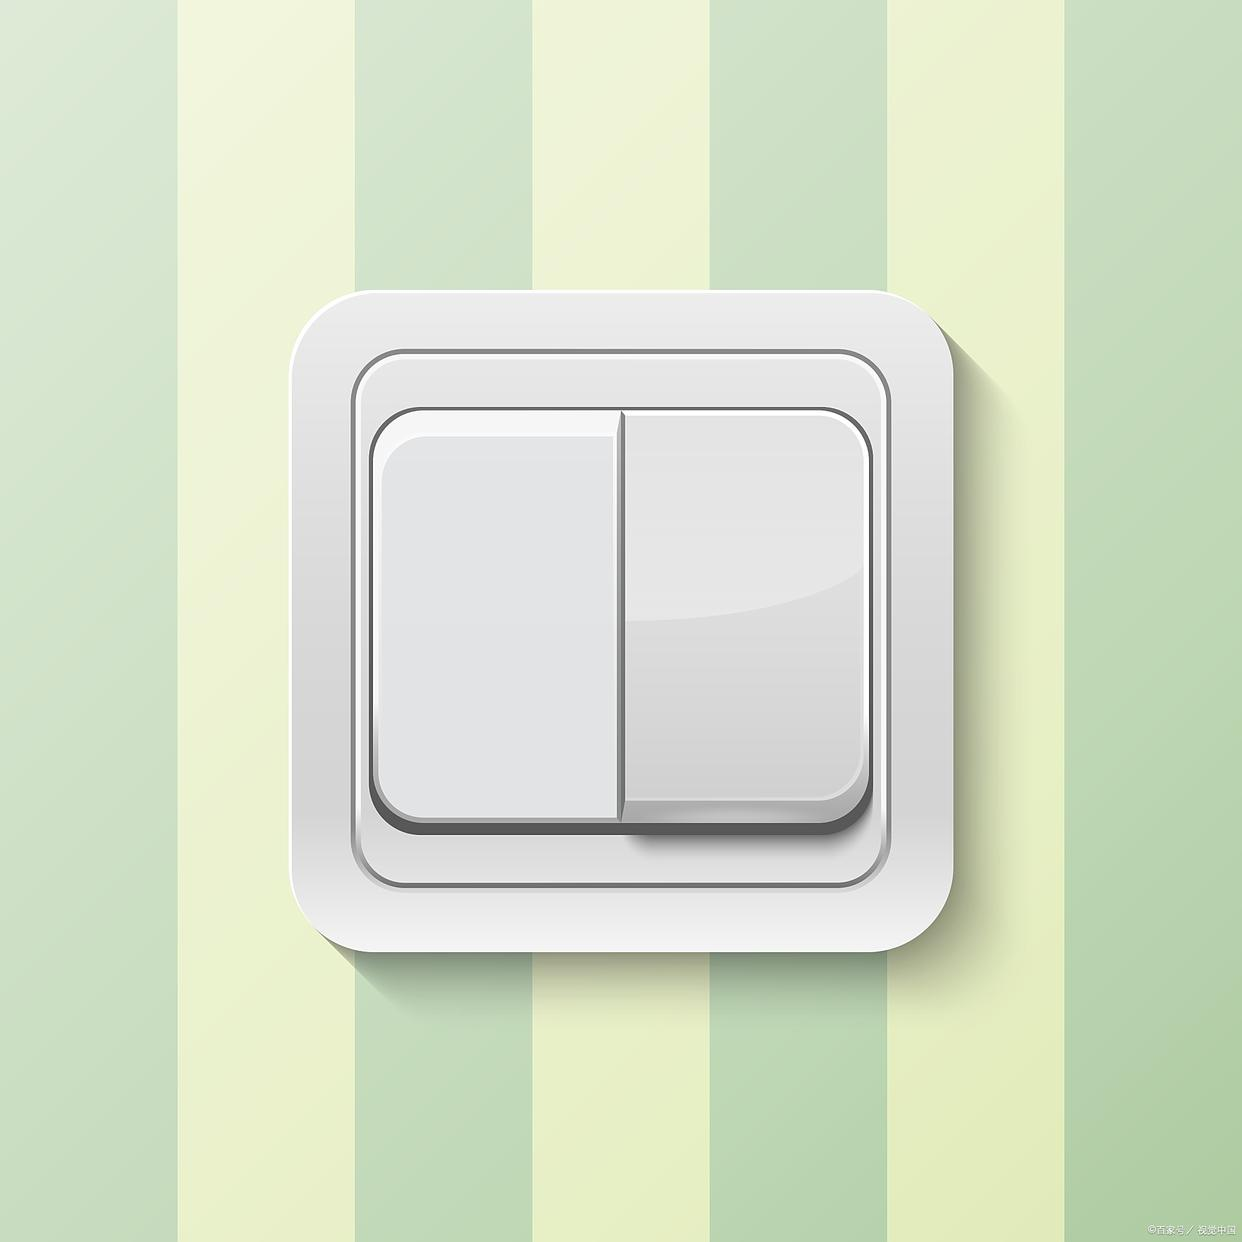button: (287, 290, 957, 957)
